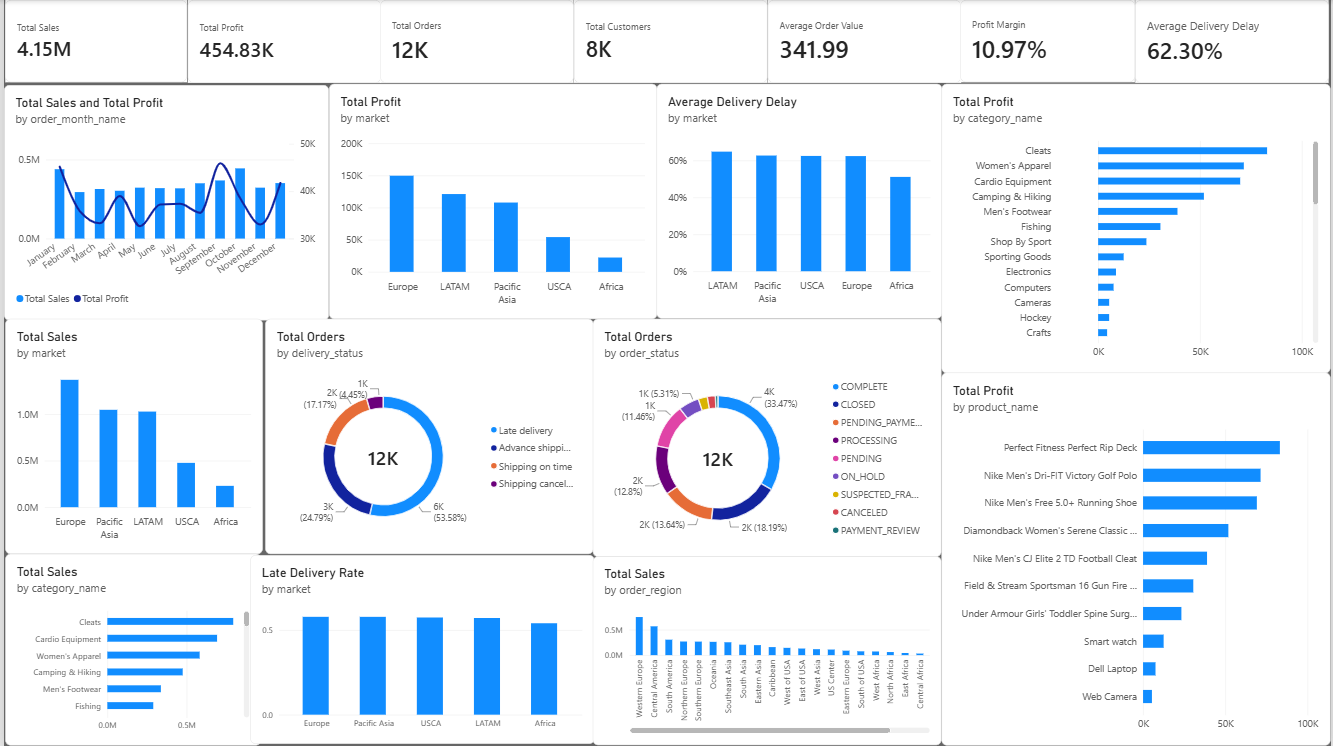

The page's visual inventory and layout, read from the dashboard file:
{"tool":"powerbi","page":{"name":"Page 1","canvas":[1920,1080],"ordinal":0},"visuals":[{"type":"cardVisual","fields":{"Data":["supply_chain_final.Total Sales"]},"box":[2.1,0,263.5,119.4],"z":0},{"type":"cardVisual","fields":{"Data":["supply_chain_final.Total Profit"]},"box":[265.5,0,280,120],"z":1},{"type":"cardVisual","fields":{"Data":["supply_chain_final.Total Orders"]},"box":[545.5,0,280,120],"z":2},{"type":"cardVisual","fields":{"Data":["supply_chain_final.Total Customers"]},"box":[825.4,0,280,120],"z":3},{"type":"cardVisual","fields":{"Data":["supply_chain_final.Average Order Value"]},"box":[1105.3,0,280,120],"z":4},{"type":"cardVisual","fields":{"Data":["supply_chain_final.Profit Margin"]},"box":[1385.3,0,253.2,119.4],"z":5},{"type":"cardVisual","fields":{"Data":["supply_chain_final.Average Delivery Delay"]},"box":[1638.4,0,280,120],"z":6},{"type":"lineClusteredColumnComboChart","fields":{"Category":["supply_chain_final.order_month_name"],"Y":["supply_chain_final.Total Sales"],"Y2":["supply_chain_final.Total Profit"]},"box":[0,123.5,470.3,340.5],"z":7},{"type":"clusteredColumnChart","fields":{"Category":["supply_chain_final.market"],"Y":["supply_chain_final.Total Sales"]},"box":[2.3,461,373,341],"z":8},{"type":"clusteredBarChart","fields":{"Category":["supply_chain_final.category_name"],"Y":["supply_chain_final.Total Sales"]},"box":[2.3,801.5,370.7,278],"z":9},{"type":"clusteredColumnChart","fields":{"Category":["supply_chain_final.market"],"Y":["supply_chain_final.Total Profit"]},"box":[470.3,120.5,474.9,340.5],"z":10},{"type":"donutChart","fields":{"Category":["supply_chain_final.delivery_status"],"Y":["supply_chain_final.Total Orders"]},"box":[377.6,461,474.9,340.5],"z":11},{"type":"clusteredColumnChart","fields":{"Category":["supply_chain_final.market"],"Y":["supply_chain_final.Late Delivery Rate"]},"box":[356.8,803.9,498.1,273.4],"z":12},{"type":"clusteredColumnChart","fields":{"Category":["supply_chain_final.market"],"Y":["supply_chain_final.Average Delivery Delay"]},"box":[944.8,121.4,413.7,339.6],"z":13},{"type":"donutChart","fields":{"Category":["supply_chain_final.order_status"],"Y":["supply_chain_final.Total Orders"]},"box":[852.5,461,505,345.2],"z":14},{"type":"clusteredColumnChart","fields":{"Category":["supply_chain_final.order_region"],"Y":["supply_chain_final.Total Sales"]},"box":[852.5,806.2,505,273.4],"z":15},{"type":"clusteredBarChart","fields":{"Category":["supply_chain_final.category_name"],"Y":["supply_chain_final.Total Profit"]},"box":[1357.5,120.5,562.9,419.3],"z":16},{"type":"clusteredBarChart","fields":{"Category":["supply_chain_final.product_name"],"Y":["supply_chain_final.Total Profit"]},"box":[1357.5,539.8,562.9,539.8],"z":17}]}

Visuals, with their boxes in screenshot pixels (x1, y1, x2, y2), scaled from the page's 1920x1080 canvas onto the 1333x746 screenshot:
cardVisual - supply_chain_final.Total Sales: 1:0:184:82
cardVisual - supply_chain_final.Total Profit: 184:0:379:83
cardVisual - supply_chain_final.Total Orders: 379:0:573:83
cardVisual - supply_chain_final.Total Customers: 573:0:767:83
cardVisual - supply_chain_final.Average Order Value: 767:0:962:83
cardVisual - supply_chain_final.Profit Margin: 962:0:1138:82
cardVisual - supply_chain_final.Average Delivery Delay: 1137:0:1332:83
lineClusteredColumnComboChart - supply_chain_final.order_month_name x supply_chain_final.Total Sales: 0:85:327:321
clusteredColumnChart - supply_chain_final.market x supply_chain_final.Total Sales: 2:318:261:554
clusteredBarChart - supply_chain_final.category_name x supply_chain_final.Total Sales: 2:554:259:745
clusteredColumnChart - supply_chain_final.market x supply_chain_final.Total Profit: 327:83:656:318
donutChart - supply_chain_final.delivery_status x supply_chain_final.Total Orders: 262:318:592:554
clusteredColumnChart - supply_chain_final.market x supply_chain_final.Late Delivery Rate: 248:555:594:744
clusteredColumnChart - supply_chain_final.market x supply_chain_final.Average Delivery Delay: 656:84:943:318
donutChart - supply_chain_final.order_status x supply_chain_final.Total Orders: 592:318:942:557
clusteredColumnChart - supply_chain_final.order_region x supply_chain_final.Total Sales: 592:557:942:745
clusteredBarChart - supply_chain_final.category_name x supply_chain_final.Total Profit: 942:83:1332:373
clusteredBarChart - supply_chain_final.product_name x supply_chain_final.Total Profit: 942:373:1332:745
